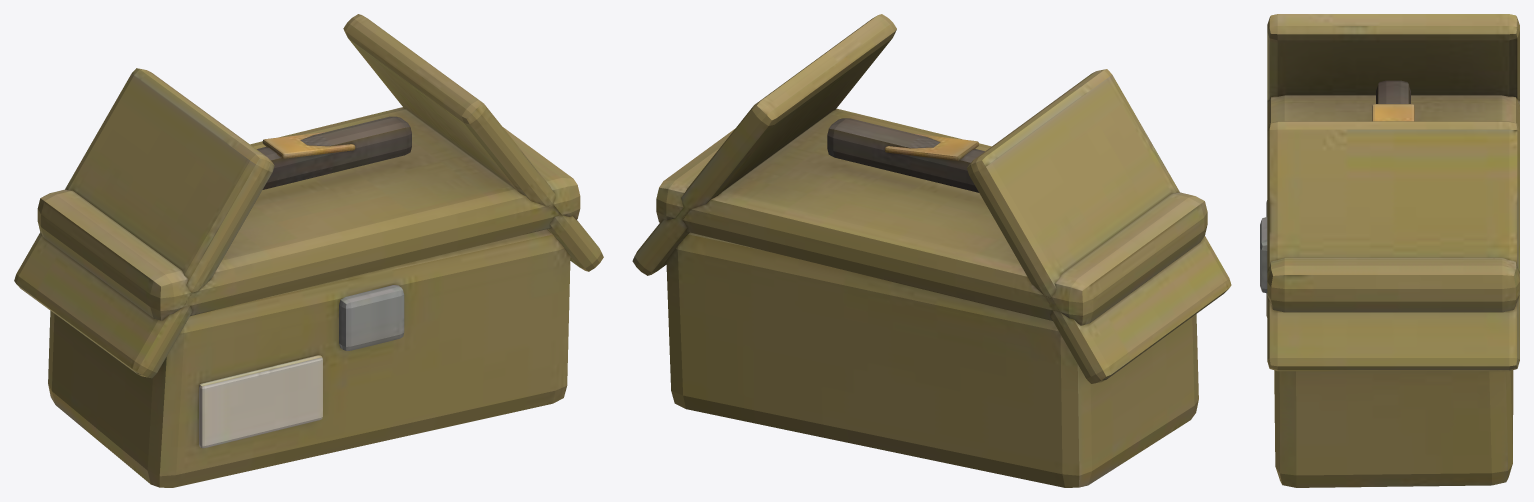
Rendered from source_old_toolbox.glb.
The picture shows the model from 3 angles, left to right: view 1: azimuth 30°, elevation 25°; view 2: azimuth 150°, elevation 25°; view 3: azimuth 270°, elevation 25°; orthographic projection.
Visible parts, largest first — view 1: OldToolbox_Mesh, Closed_Mesh, Open_Mesh; view 2: OldToolbox_Mesh, Closed_Mesh, Open_Mesh; view 3: Open_Mesh, OldToolbox_Mesh, Closed_Mesh.
Part boxes in pixels (x1,y1,x2,y2): OldToolbox_Mesh: (48, 229, 570, 487); Closed_Mesh: (37, 107, 580, 320); Open_Mesh: (14, 14, 603, 378); OldToolbox_Mesh: (666, 232, 1198, 487); Closed_Mesh: (656, 108, 1207, 325); Open_Mesh: (632, 14, 1231, 383); Open_Mesh: (1267, 14, 1519, 371); OldToolbox_Mesh: (1260, 200, 1513, 487); Closed_Mesh: (1267, 80, 1519, 312).
Size of the model in its own units: 0.7698 by 0.5129 by 0.37.
3 materials, 3 textured.
